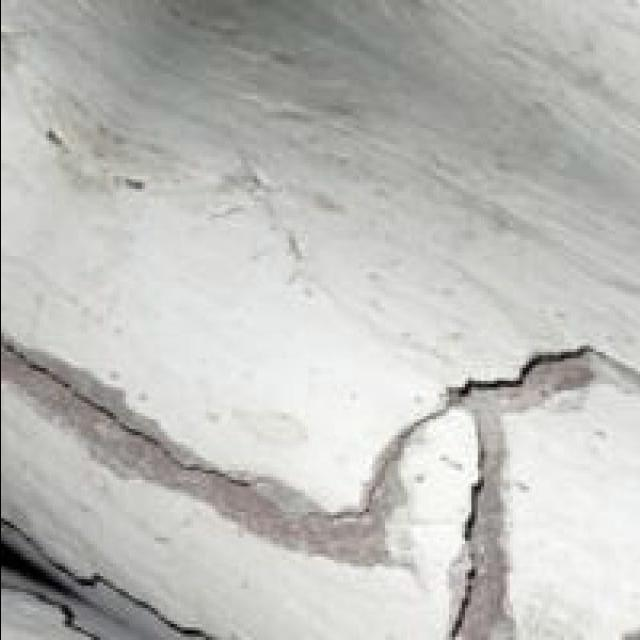SurfaceCrack: (408, 308, 640, 640), (0, 330, 372, 510), (0, 520, 216, 640)
